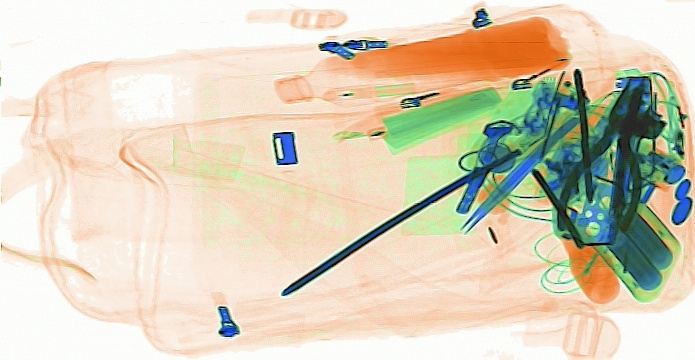powerbank: (583, 180, 681, 303)
